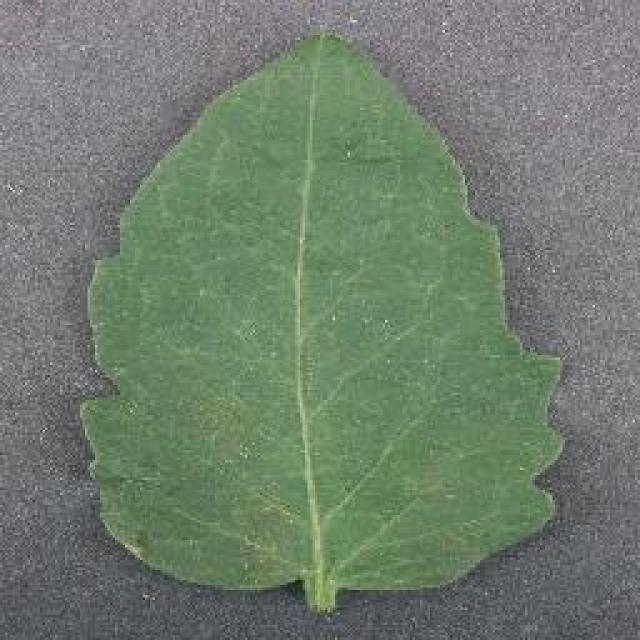Tomato_Healthy: (68, 27, 565, 603)
